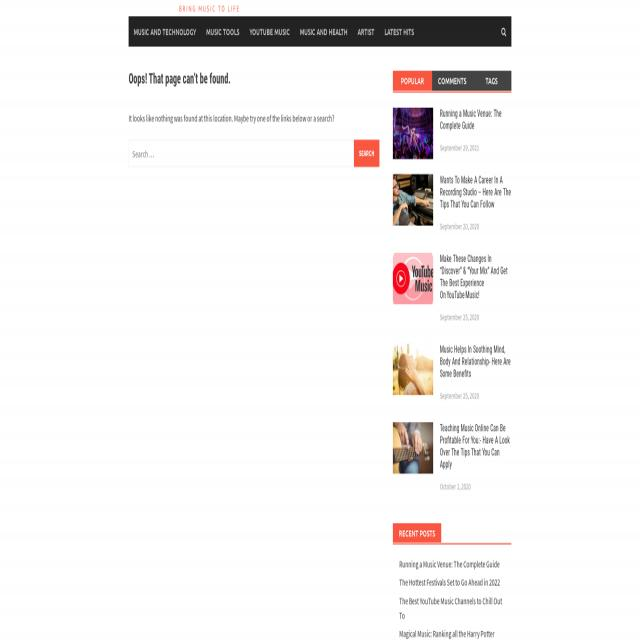button: (129, 16, 201, 47), (393, 107, 433, 159), (393, 174, 433, 226), (393, 422, 433, 474), (393, 253, 433, 304), (393, 344, 433, 395), (295, 16, 353, 47), (245, 16, 295, 47), (201, 16, 245, 47), (379, 16, 419, 47), (352, 16, 380, 47), (432, 70, 472, 90), (472, 70, 512, 90), (393, 70, 432, 90), (354, 141, 379, 168), (497, 18, 511, 46)
field: (128, 140, 380, 167)
